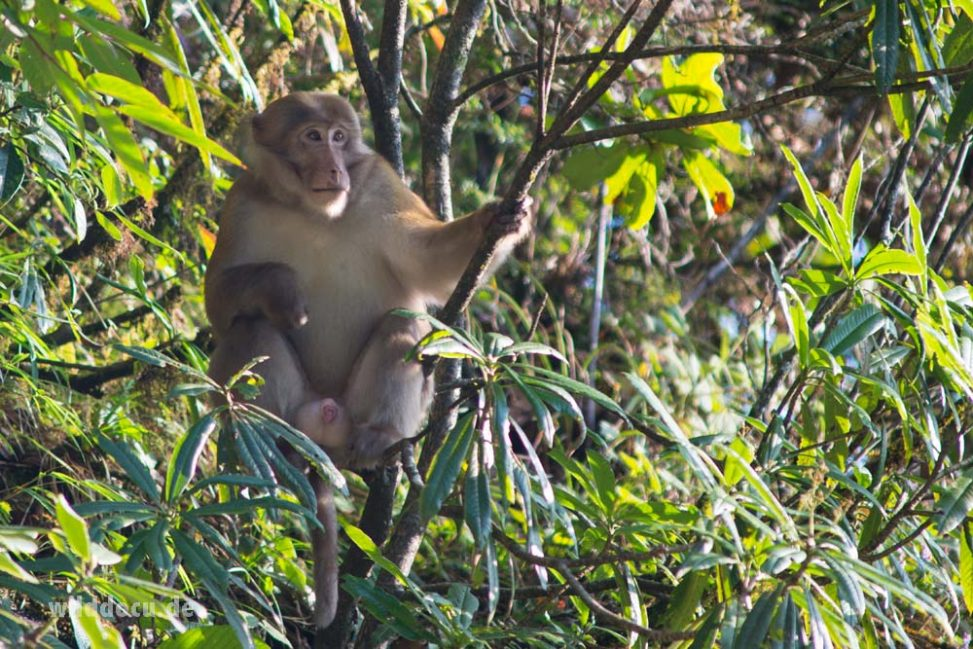monkey: (172, 70, 513, 630)
